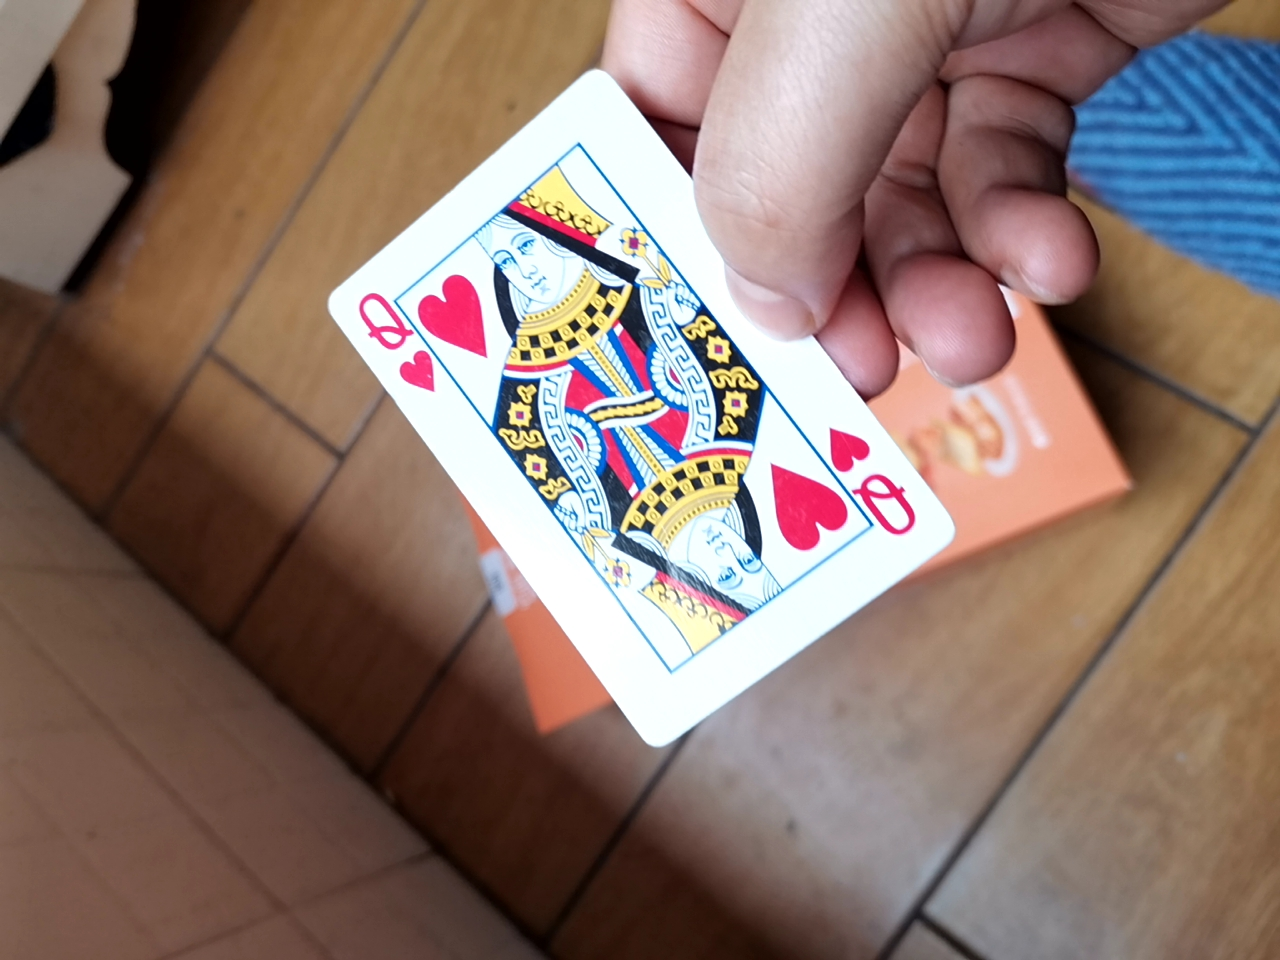hx q: (322, 58, 949, 773)
